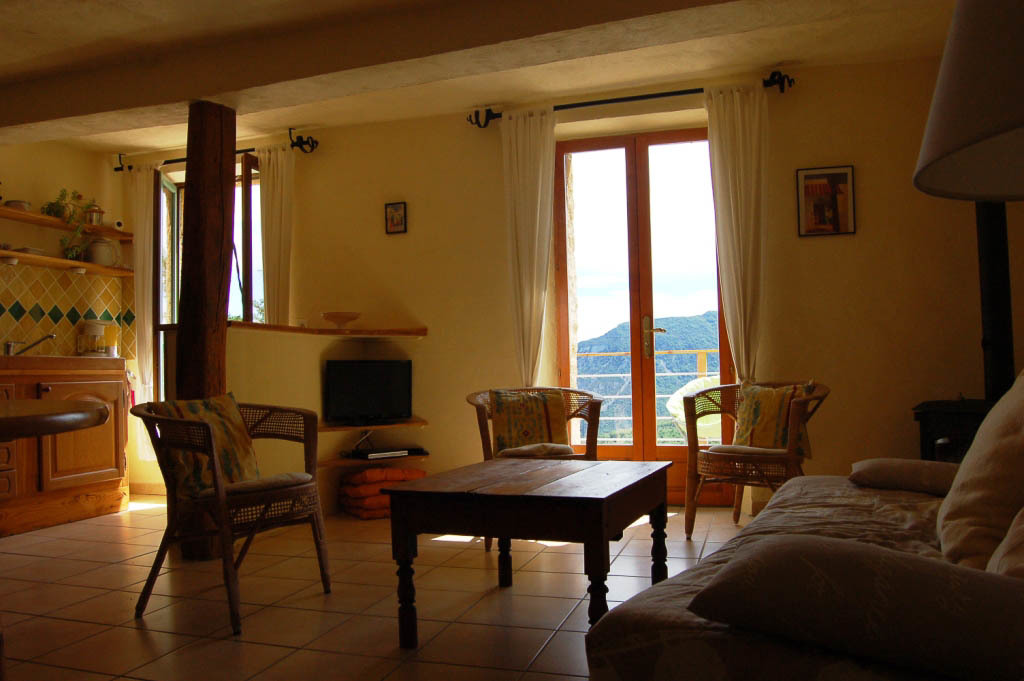Cabinetry: (1, 219, 157, 583)
